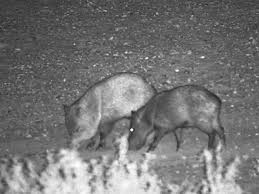javelina: (49, 71, 160, 154), (123, 82, 230, 157)
